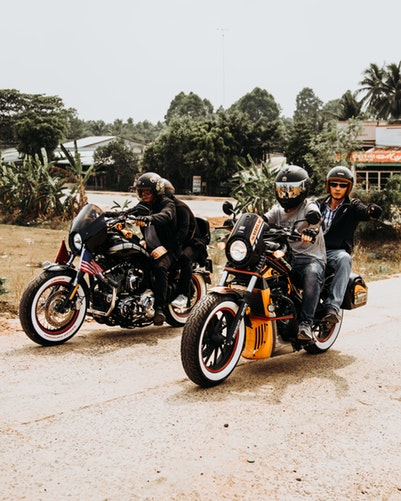helmet: (269, 166, 310, 207), (327, 167, 359, 200), (134, 175, 162, 201)
